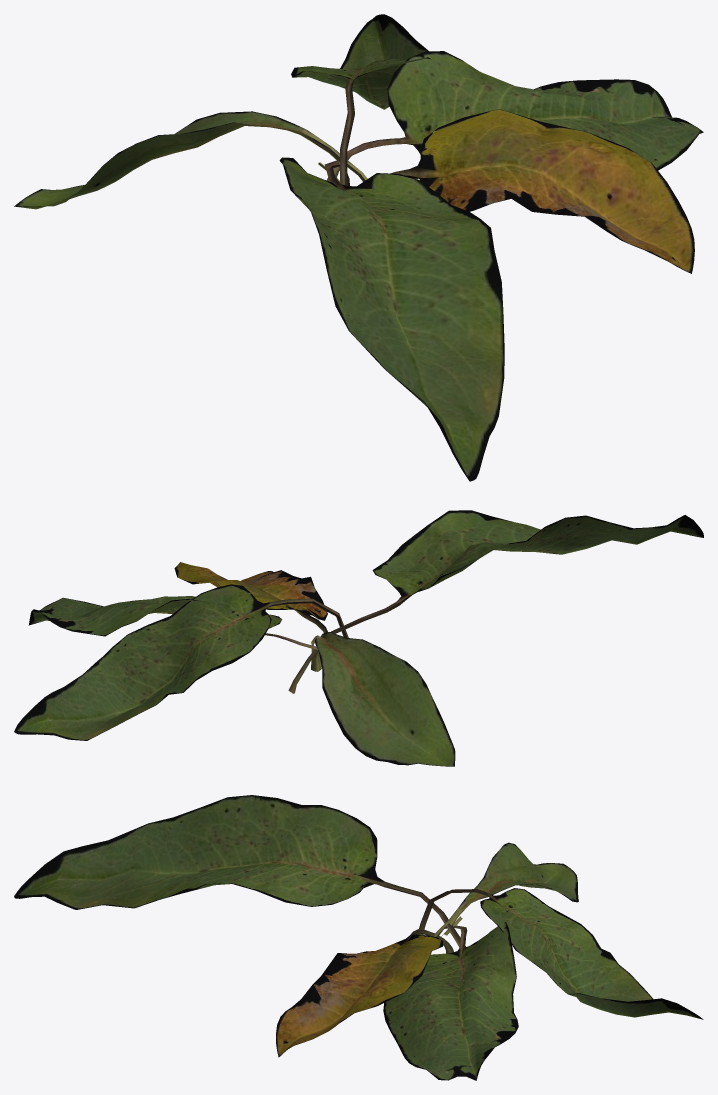
Rendered from weed_plant_02.gltf.
The picture shows the model from 3 angles, top to bottom: view 1: azimuth 30°, elevation 25°; view 2: azimuth 150°, elevation 25°; view 3: azimuth 270°, elevation 25°; orthographic projection. The views are drawn at different scales.
Visible parts, largest first — view 1: weed_plant_02; view 2: weed_plant_02; view 3: weed_plant_02.
Part boxes in pixels (x1,y1,x2,y2): weed_plant_02: (14, 14, 703, 481); weed_plant_02: (14, 510, 703, 766); weed_plant_02: (14, 795, 703, 1080).
Bounding box in the file's own units: 0.2353 × 0.0645 × 0.3264.
Materials: 1 (1 with a texture image).
